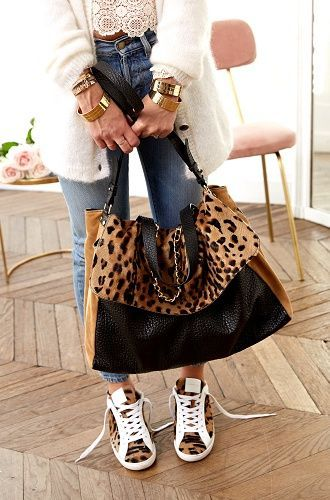cuero: (82, 62, 291, 374)
